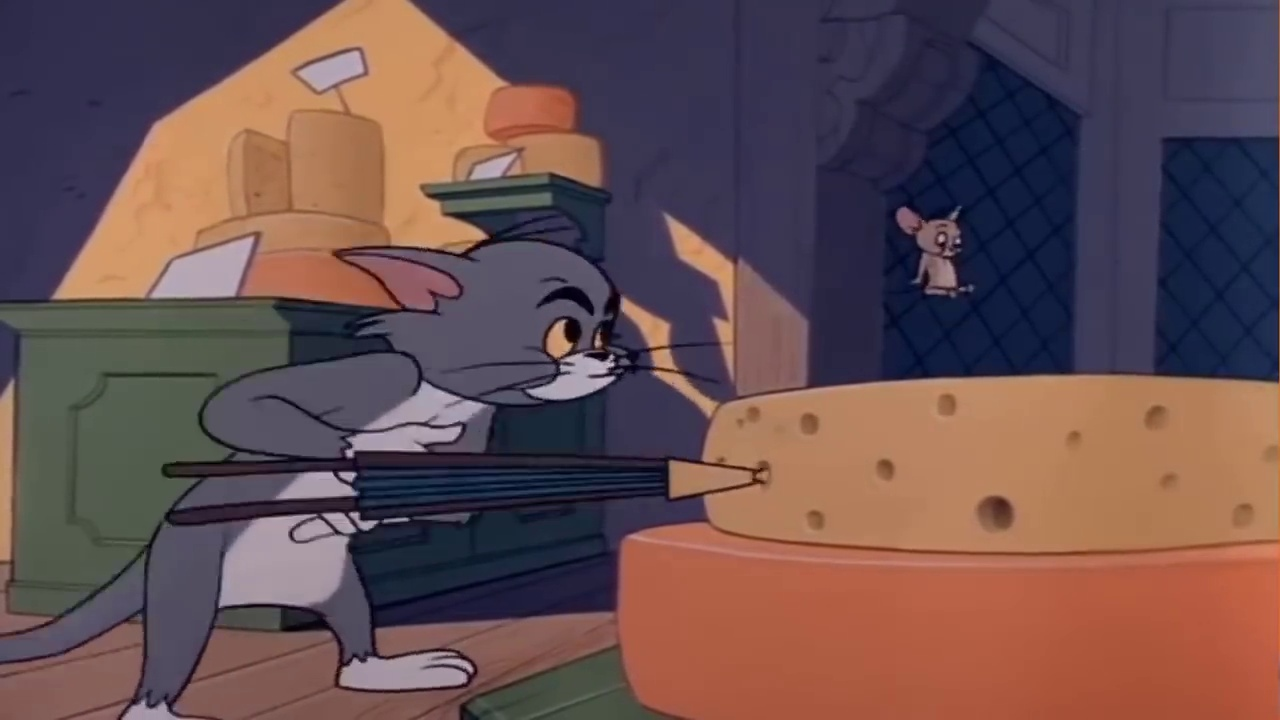face: (523, 277, 625, 407), (929, 223, 964, 258)
